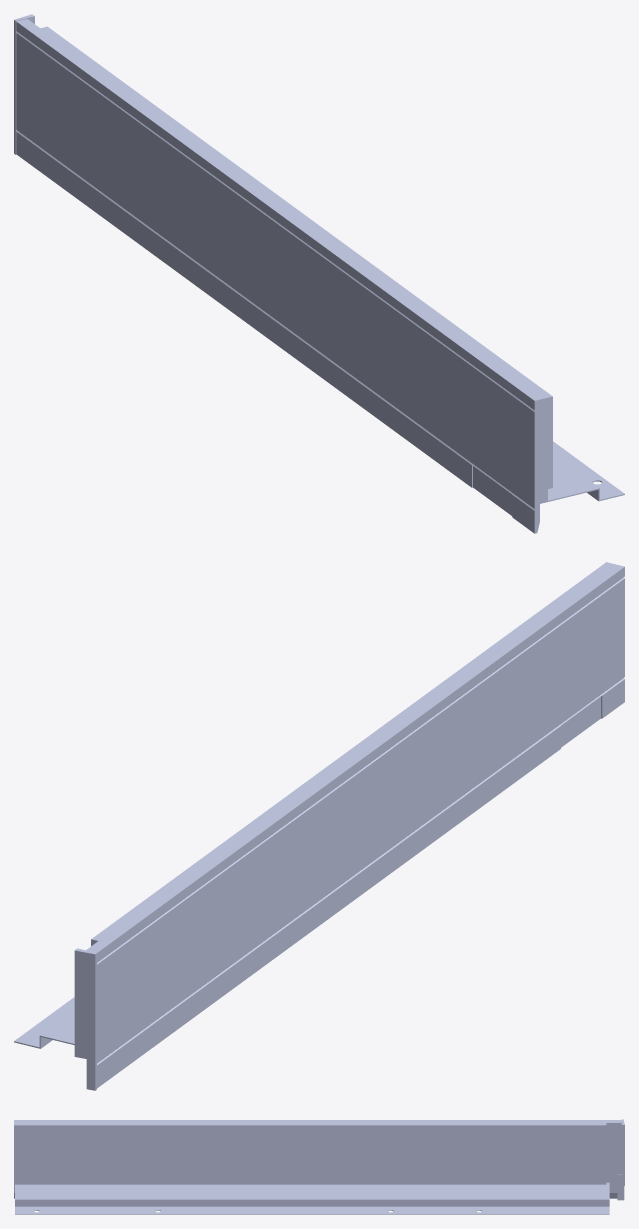
Rendered from lg-kava-M650-p.glb.
3 renders of one model, top to bottom at view 1: azimuth 30°, elevation 25°; view 2: azimuth 150°, elevation 25°; view 3: azimuth 270°, elevation 25°, orthographic. The views are drawn at different scales.
Parts seen in each view (by area): view 1: 43364268; view 2: 43364268; view 3: 43364268.
Boxes of the visible parts, <box> form: 43364268: <box>14,14,624,533</box>; 43364268: <box>14,562,624,1090</box>; 43364268: <box>14,1119,624,1214</box>.
Size of the model in its own units: 0.0653 by 0.0912 by 0.6435.
